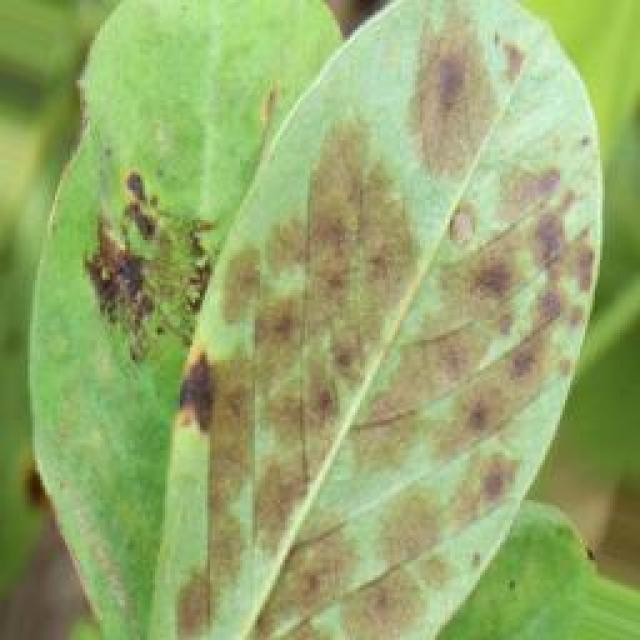Whitefly: (44, 0, 592, 640)
